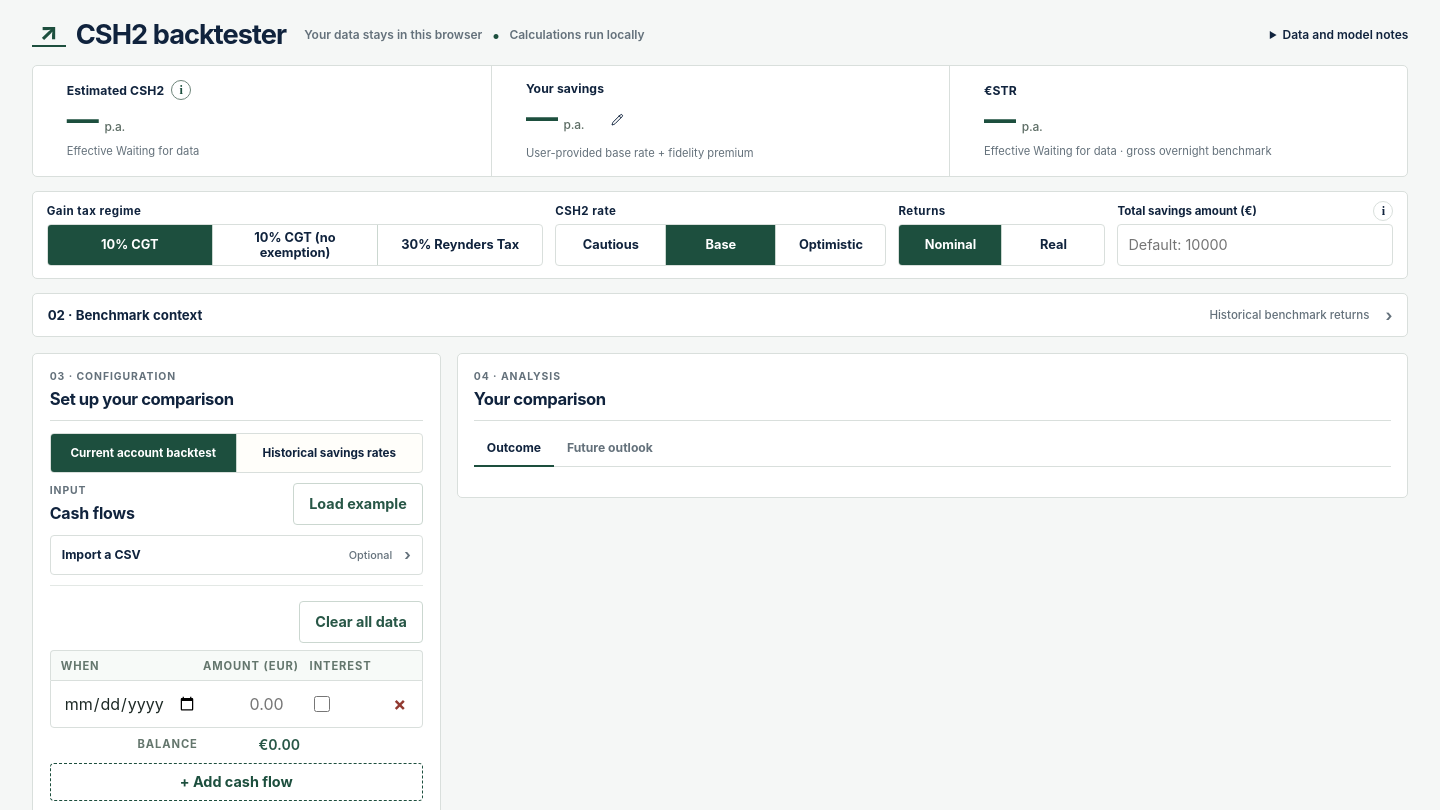
Test: CSH2 application inputs › places best-account inputs in the future outlook beside projections
Click the tab "Future outlook" at (610, 449), box [554,431,666,467]
(page scrolled)
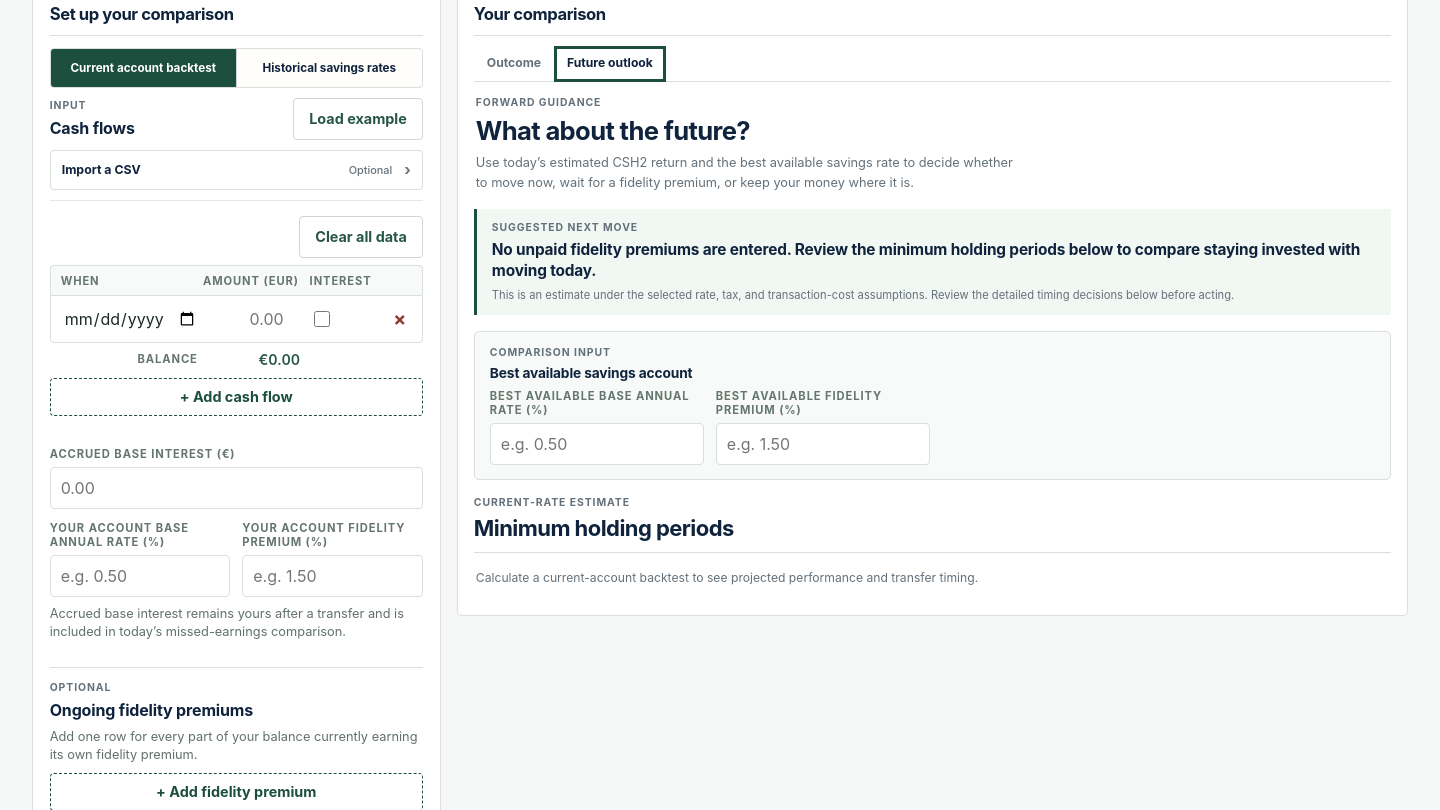
Check: the element with class "best-savings-account-inputs" is shown, box [474,331,1391,480]
